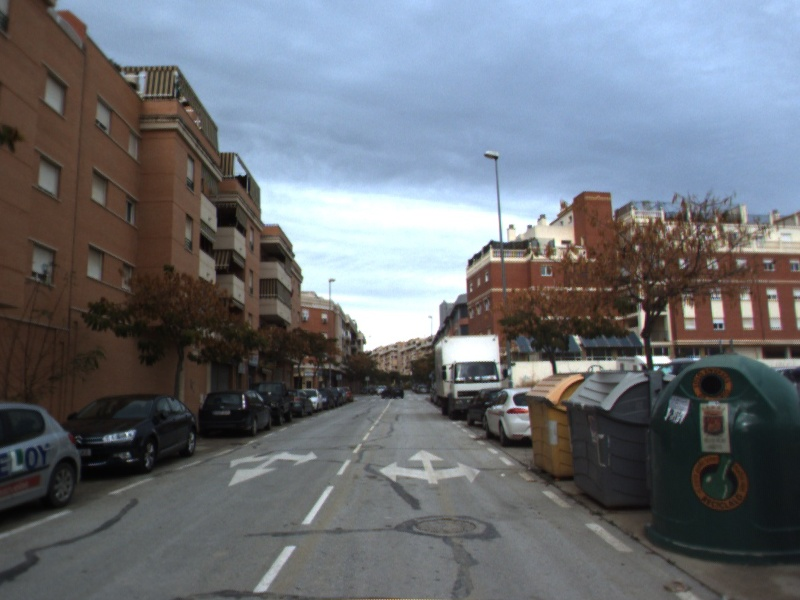STRAIGHT_LEFT_RIGHT: (377, 447, 482, 486)
